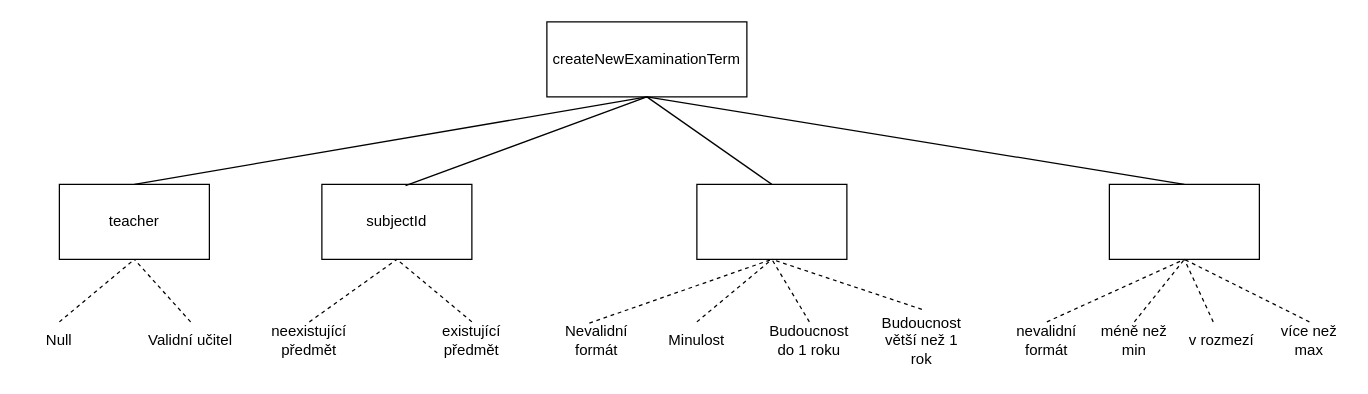
The diagram is 1368 pixels wide and 394 high, and some of its shapes have lost their labels. The centre of each missing label's shape, as x and y in pixels:
dateOfTerm: (771,221)
maxParticiapnts: (1183,221)
